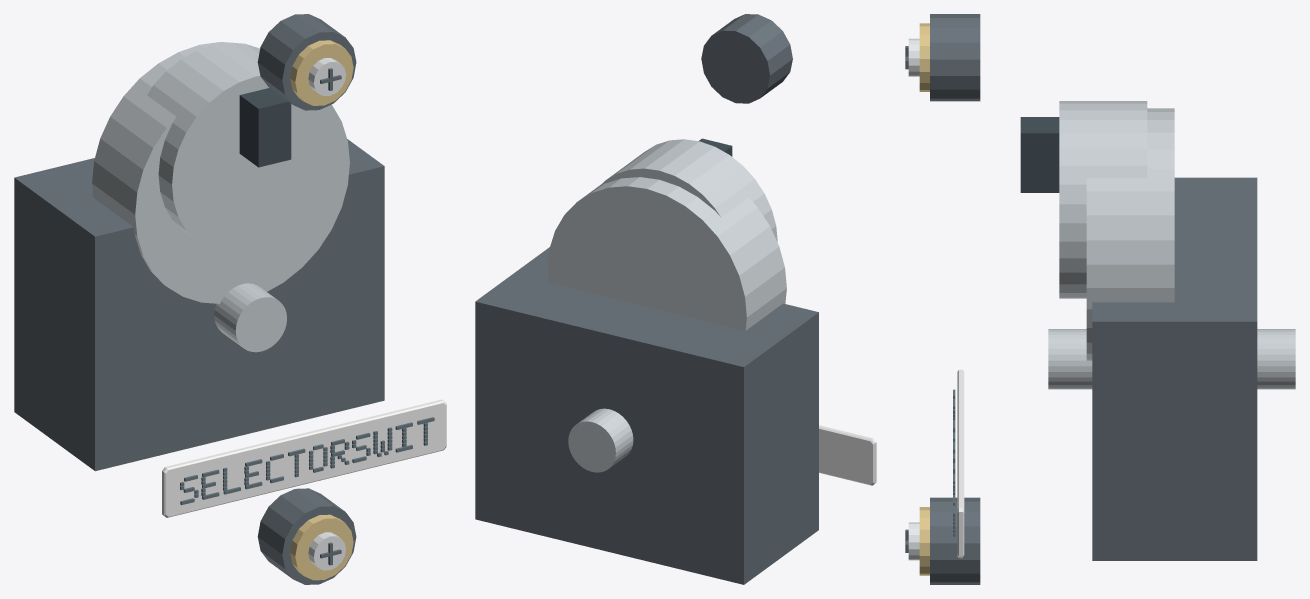
Rendered from selectorSwitch.glb.
The picture shows the model from 3 angles, left to right: view 1: azimuth 30°, elevation 25°; view 2: azimuth 150°, elevation 25°; view 3: azimuth 270°, elevation 25°; orthographic projection. The views are drawn at different scales.
Visible parts, largest first — view 1: selectorSwitch-preview; view 2: selectorSwitch-preview; view 3: selectorSwitch-preview.
Part boxes in pixels (x1,y1,x2,y2): selectorSwitch-preview: [14, 14, 446, 584]; selectorSwitch-preview: [475, 14, 876, 584]; selectorSwitch-preview: [905, 14, 1295, 584].
Size of the model in its own units: 1.22 by 2.23 by 1.4.
